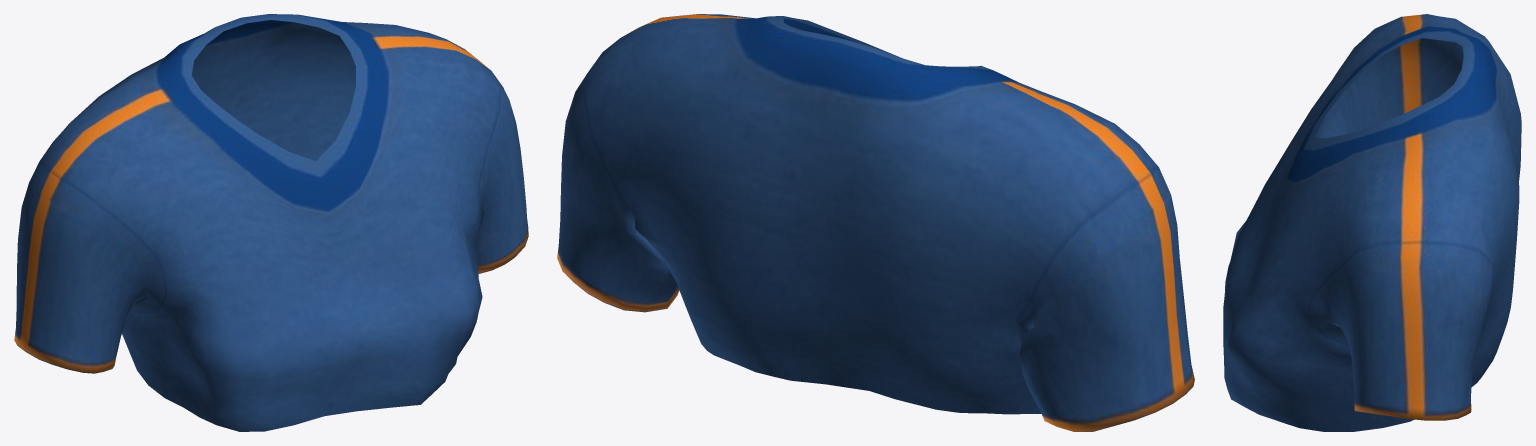
The model's file is top_sport_crop.gltf.
3 renders of one model, left to right at view 1: azimuth 30°, elevation 25°; view 2: azimuth 150°, elevation 25°; view 3: azimuth 270°, elevation 25°, orthographic. The views are drawn at different scales.
Visible parts, largest first — view 1: top_sport_crop; view 2: top_sport_crop; view 3: top_sport_crop.
Boxes of the visible parts, x1,y1,x2,y2 form: top_sport_crop: (14, 14, 528, 431); top_sport_crop: (557, 14, 1194, 431); top_sport_crop: (1223, 14, 1521, 431).
Bounding box in the file's own units: 0.4503 × 0.2705 × 0.2317.
1 material, 1 textured.
